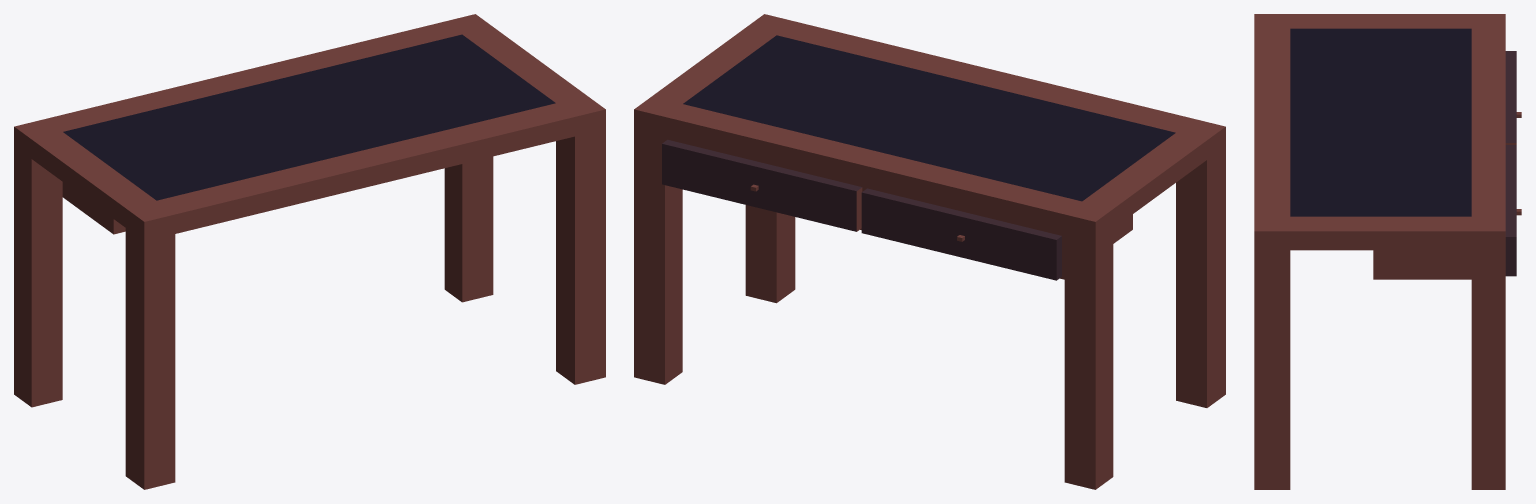
File: table.glb
The picture shows the model from 3 angles, left to right: view 1: azimuth 30°, elevation 25°; view 2: azimuth 150°, elevation 25°; view 3: azimuth 270°, elevation 25°; orthographic projection. The views are drawn at different scales.
Parts seen in each view (by area): view 1: Cube; view 2: Cube; view 3: Cube.
Part boxes in pixels (x1=…): Cube: x1=14, y1=14, x2=605, y2=489; Cube: x1=634, y1=14, x2=1225, y2=489; Cube: x1=1254, y1=14, x2=1521, y2=489.
Size of the model in its own units: 7.16 by 3.97 by 3.73.
1 material, 1 textured.
